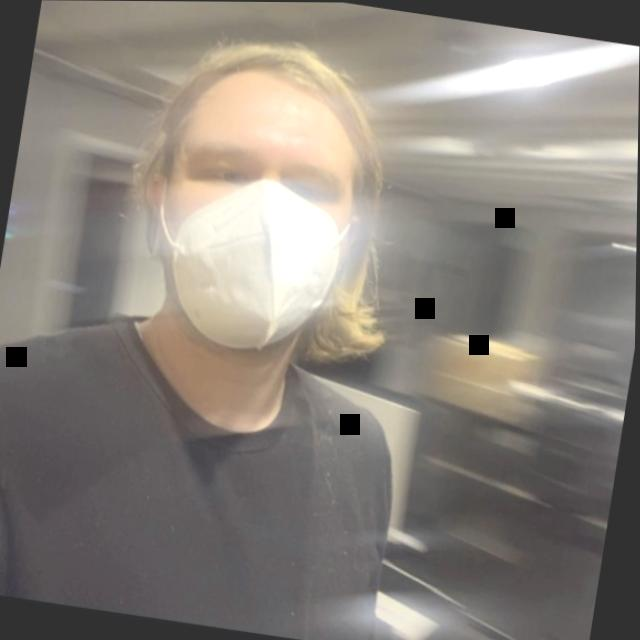Mask: (101, 1, 434, 390)
